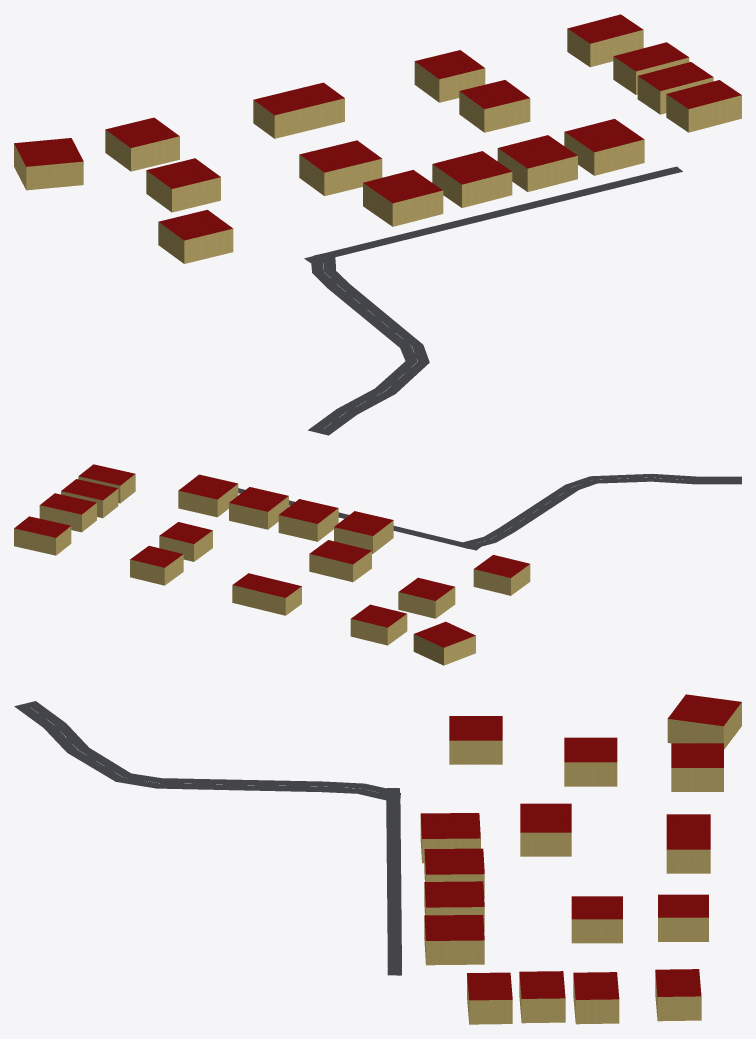
The model's file is district_-2_2.glb.
3 views of the same model, one above another, from view 1: azimuth 30°, elevation 25°; view 2: azimuth 150°, elevation 25°; view 3: azimuth 270°, elevation 25° (orthographic). The views are drawn at different scales.
Visible parts, largest first — view 1: Road улица Маршака, Building w44036180, Building w626165928, Building w44036148, Building w626165929, Building w626165931, Building w626165930, Building w624688415, Building w44036137, Building w44036159, Building w44036181, Building w44036140 (+6 smaller); view 2: Road улица Маршака, Building w44036180, Building w624688415, Building w44036148, Building w626165929, Building w626165931, Building w626165930, Building w626165928, Building w44036159, Building w44036137, Building w44036181, Building w44036196 (+6 smaller); view 3: Road улица Маршака, Building w624688415, Building w626165931, Building w44036148, Building w44036180, Building w44036159, Building w44036137, Building w44036181, Road w40942436, Building w44036162, Building w44036178, Building w44036196 (+6 smaller).
Part boxes in pixels (x1,y1,x2,y2): Road улица Маршака: (308, 263, 429, 435); Building w44036180: (253, 82, 344, 138); Building w626165928: (363, 170, 443, 226); Building w44036148: (299, 140, 382, 196); Building w626165929: (432, 151, 512, 207); Building w626165931: (564, 119, 644, 175); Building w626165930: (497, 135, 577, 191); Building w624688415: (14, 138, 83, 190); Building w44036137: (158, 209, 233, 263); Building w44036159: (146, 158, 220, 212); Building w44036181: (105, 117, 179, 171); Building w44036140: (666, 80, 741, 132); Road улица Маршака: (472, 474, 741, 546); Building w44036180: (232, 573, 301, 615); Building w624688415: (413, 621, 475, 665); Building w44036148: (309, 540, 371, 582); Building w626165929: (278, 499, 338, 541); Building w626165931: (178, 474, 238, 517); Building w626165930: (229, 487, 288, 529); Building w626165928: (334, 511, 393, 553); Building w44036159: (398, 577, 455, 618); Building w44036137: (473, 555, 530, 595); Building w44036181: (350, 604, 407, 645); Building w44036196: (14, 516, 71, 555); Road улица Маршака: (14, 701, 384, 797); Building w624688415: (667, 694, 741, 749); Building w626165931: (424, 915, 484, 965); Building w44036148: (520, 803, 571, 856); Building w44036180: (666, 814, 710, 873); Building w44036159: (564, 737, 617, 786); Building w44036137: (449, 716, 502, 764); Building w44036181: (671, 743, 723, 791); Road w40942436: (386, 800, 401, 969); Building w44036162: (571, 896, 622, 943); Building w44036178: (658, 894, 708, 941); Building w44036196: (655, 969, 701, 1021).
Size of the model in its own units: 215 by 7.5 by 205.
Materials: 4 (4 with a texture image).
